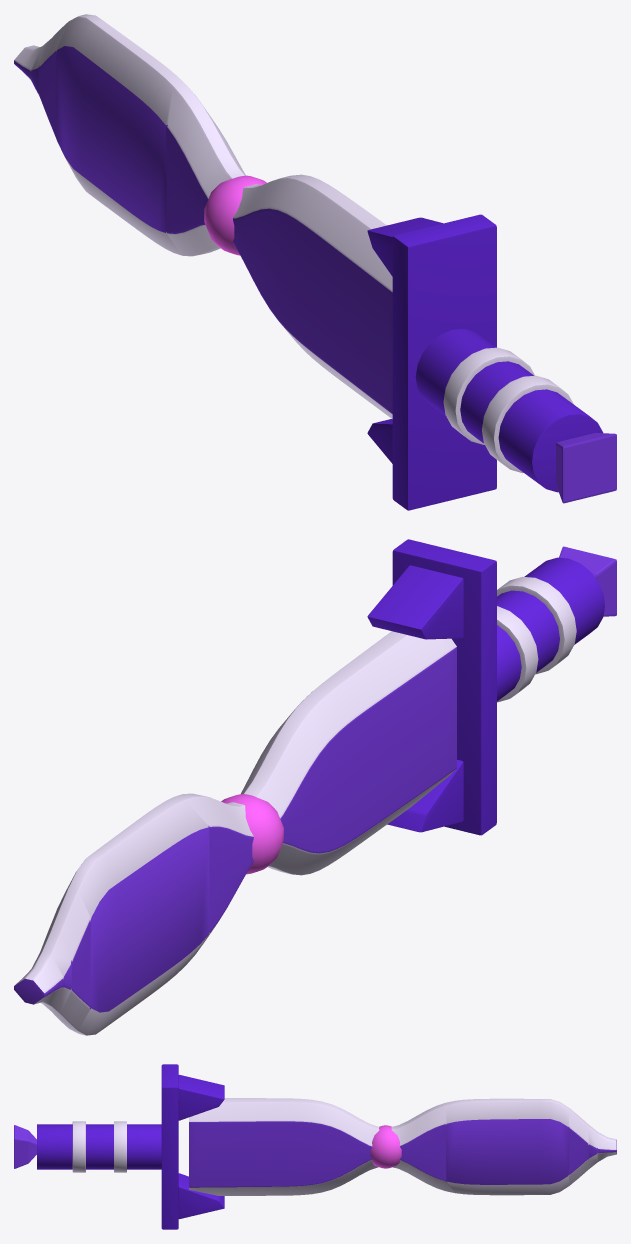
File: Sword_CollapseClaymore.glb
3 renders of one model, top to bottom at view 1: azimuth 30°, elevation 25°; view 2: azimuth 150°, elevation 25°; view 3: azimuth 270°, elevation 25°, orthographic. The views are drawn at different scales.
Visible parts, largest first — view 1: Sword_CollapseClaymore; view 2: Sword_CollapseClaymore; view 3: Sword_CollapseClaymore.
Boxes of the visible parts, x1,y1,x2,y2 form: Sword_CollapseClaymore: (14,14,616,510); Sword_CollapseClaymore: (14,539,616,1035); Sword_CollapseClaymore: (14,1064,616,1229).
Size of the model in its own units: 0.092 by 0.26 by 1.
Materials: 1 (1 with a texture image).
